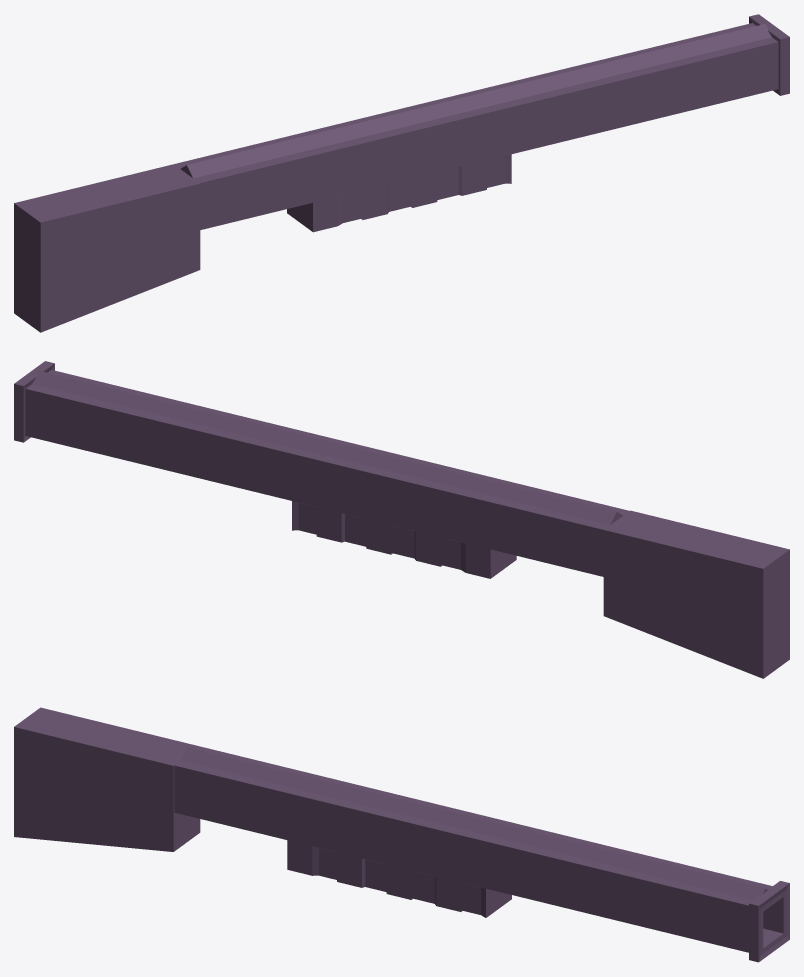
Rendered from rifle.glb.
3 renders of one model, top to bottom at view 1: azimuth 30°, elevation 25°; view 2: azimuth 150°, elevation 25°; view 3: azimuth 330°, elevation 25°, orthographic.
Visible parts, largest first — view 1: Cube; view 2: Cube; view 3: Cube.
Boxes of the visible parts, <box> form: Cube: <box>14,14,789,332</box>; Cube: <box>14,361,789,678</box>; Cube: <box>14,707,789,962</box>.
Bounding box in the file's own units: 1.79 × 0.2722 × 0.1296.
